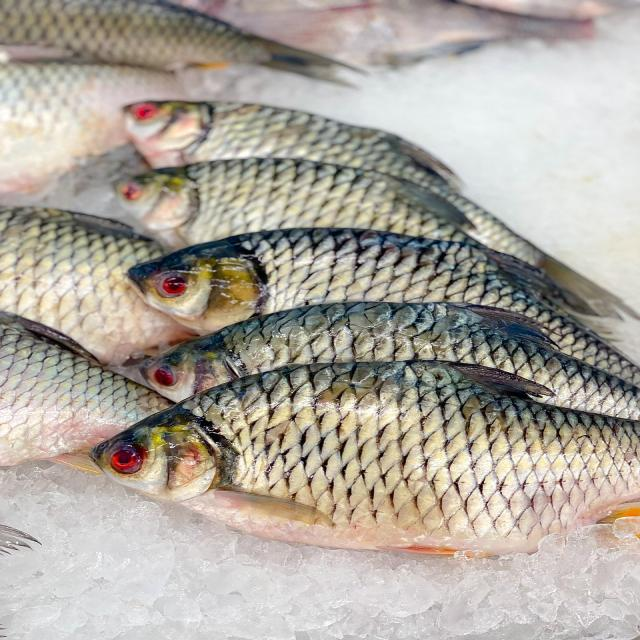Tilapia: (88, 361, 639, 554), (121, 228, 639, 383)
